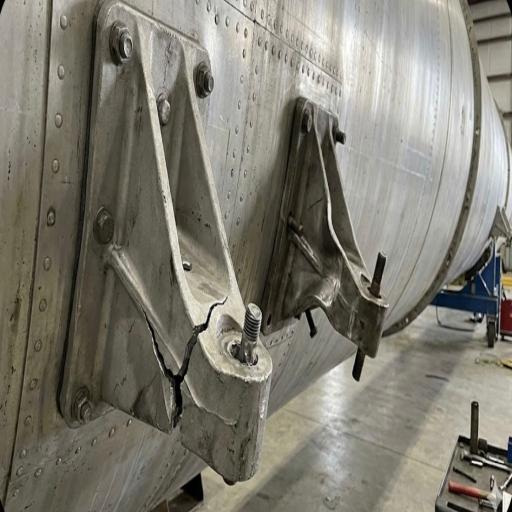fastening crack: (135, 287, 229, 463)
